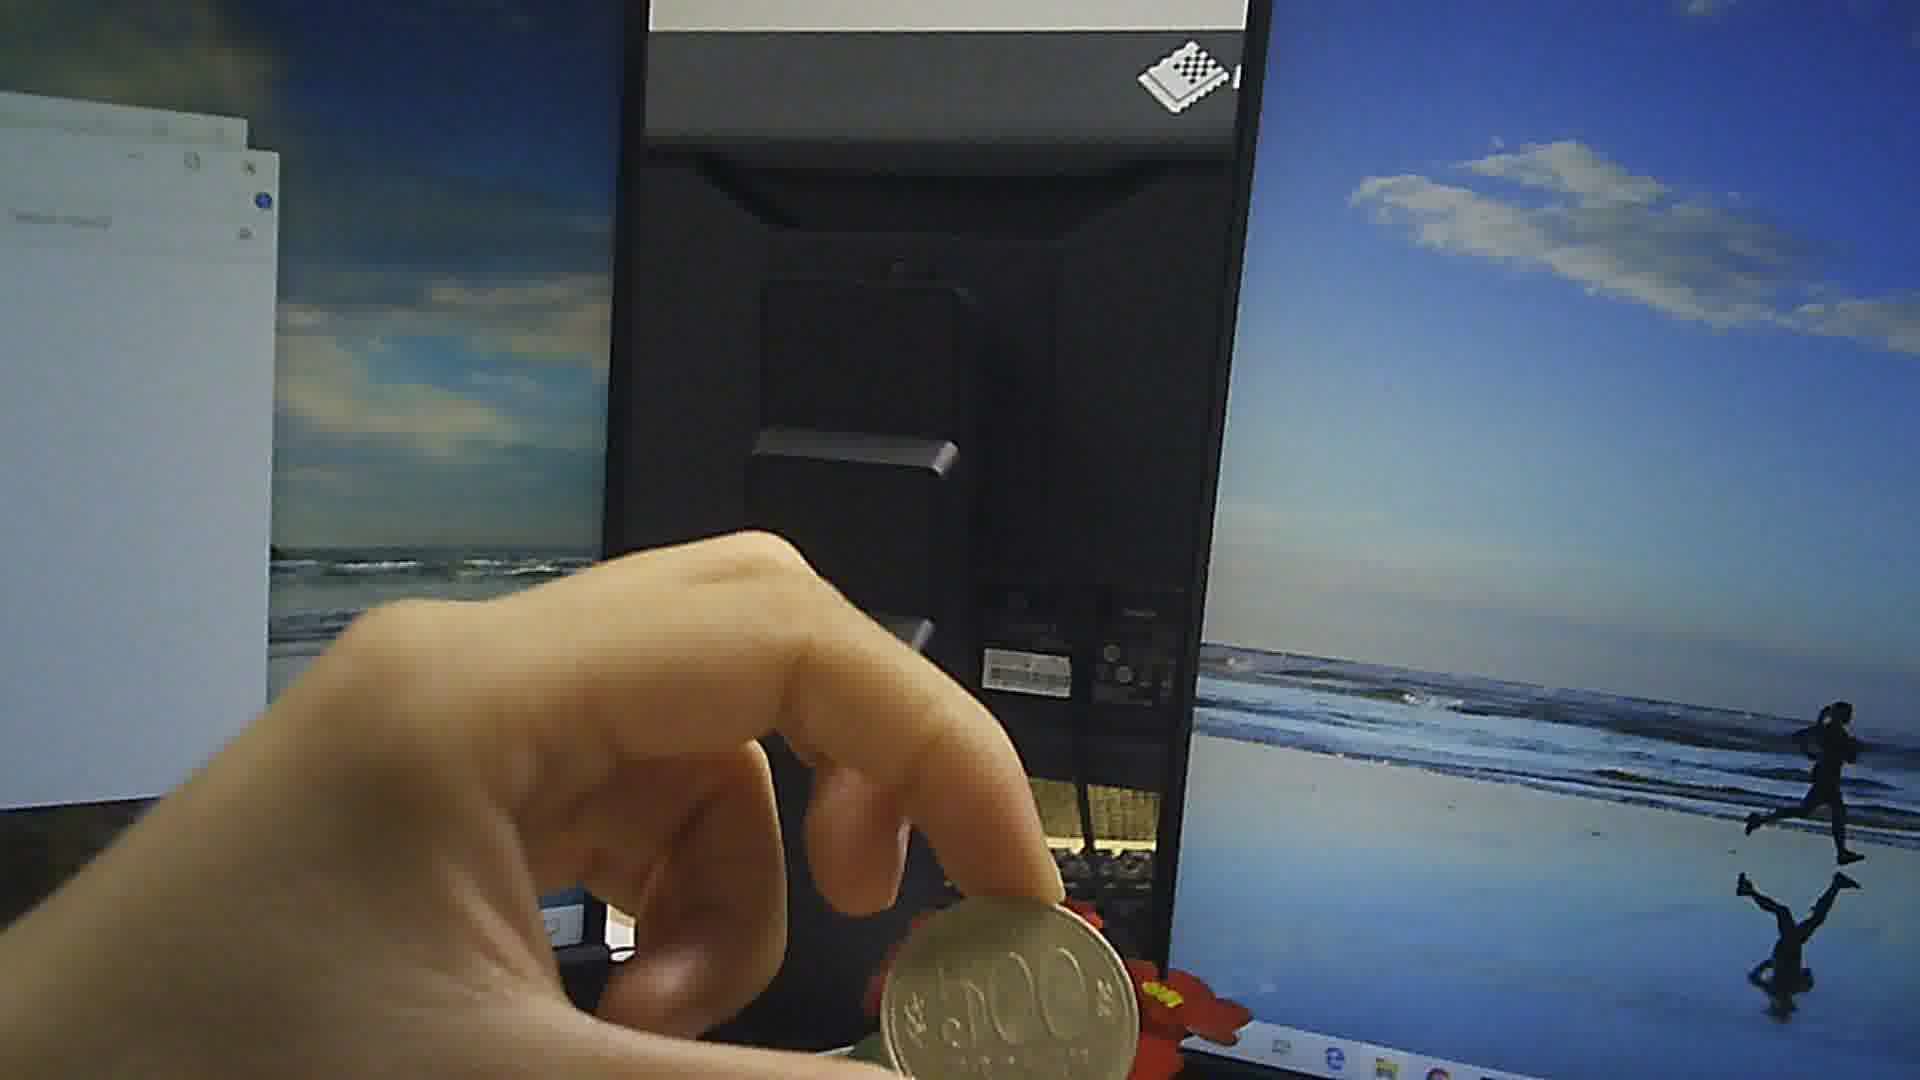500 Yen: (874, 895, 1131, 1079)
